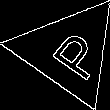P_NW: (35, 21, 102, 81)
